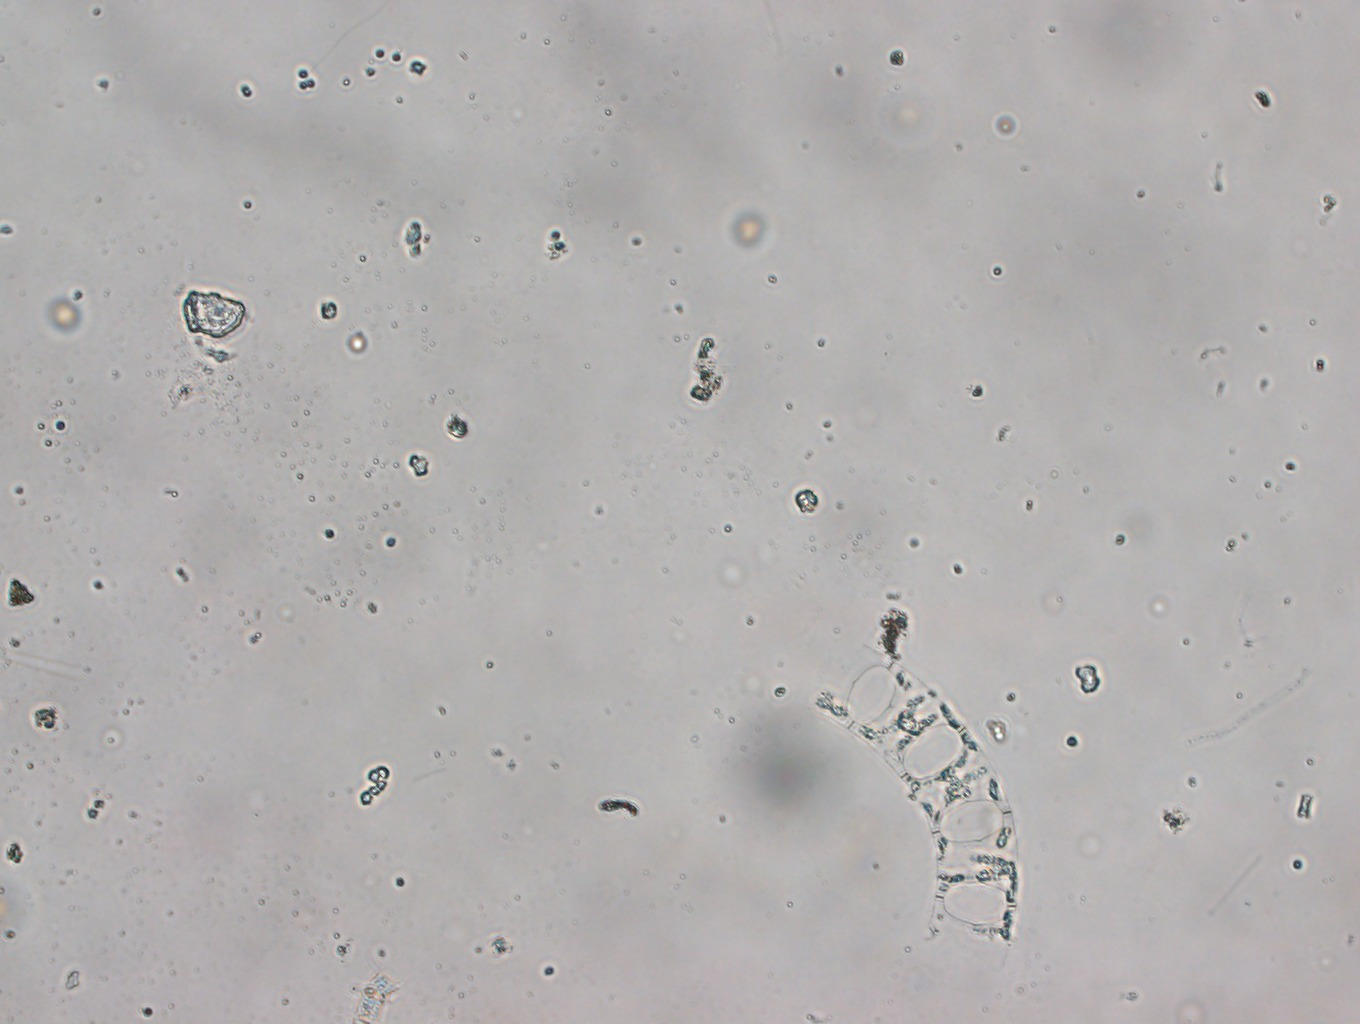eucampia: (814, 645, 1020, 964)
